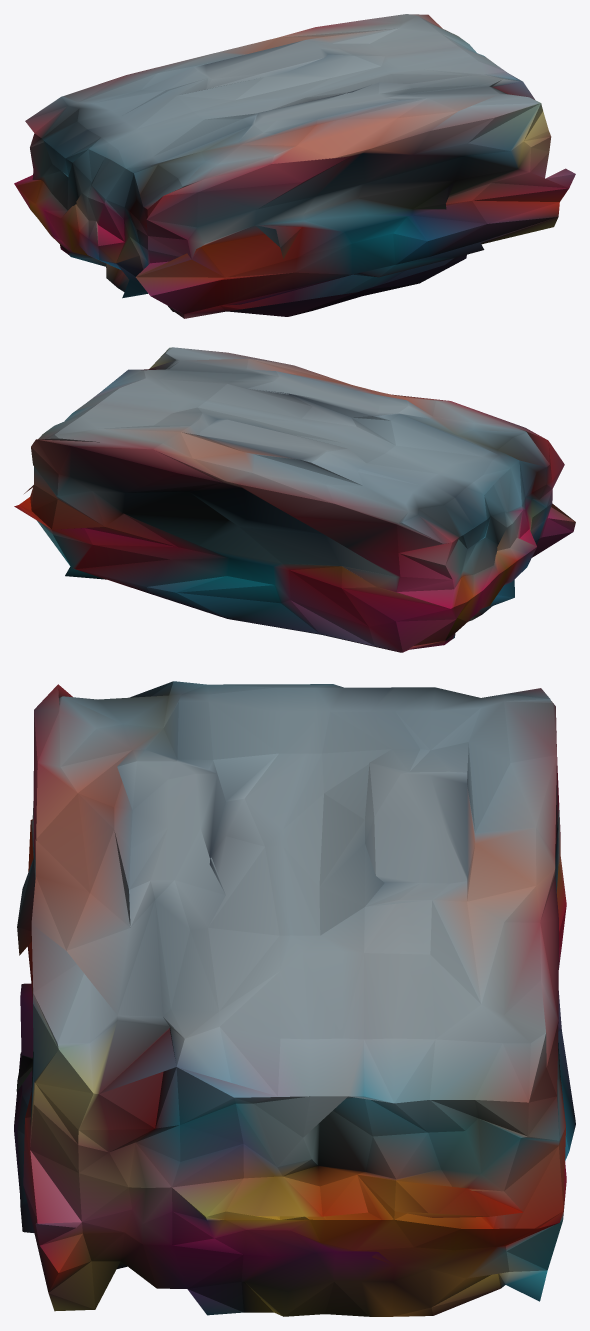
The picture shows the model from 3 angles, top to bottom: view 1: azimuth 30°, elevation 25°; view 2: azimuth 150°, elevation 25°; view 3: azimuth 270°, elevation 25°; orthographic projection. The views are drawn at different scales.
Size of the model in its own units: 9.48 by 3.4 by 5.32.
